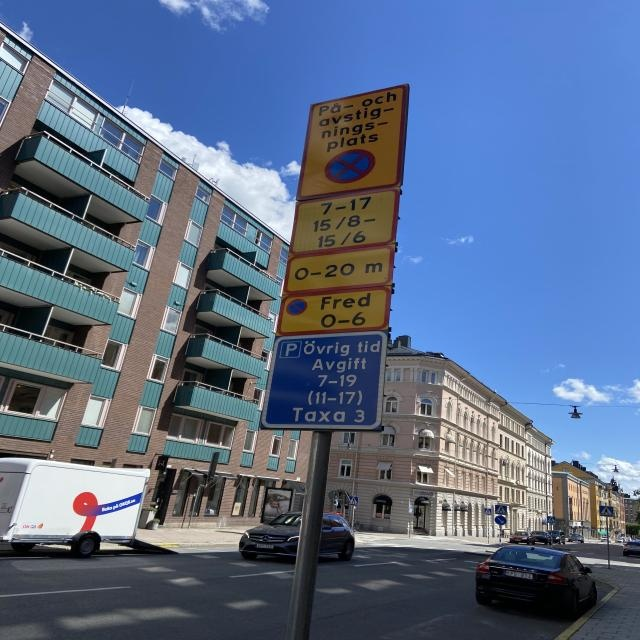avstignnigsplats: (296, 84, 409, 203)
